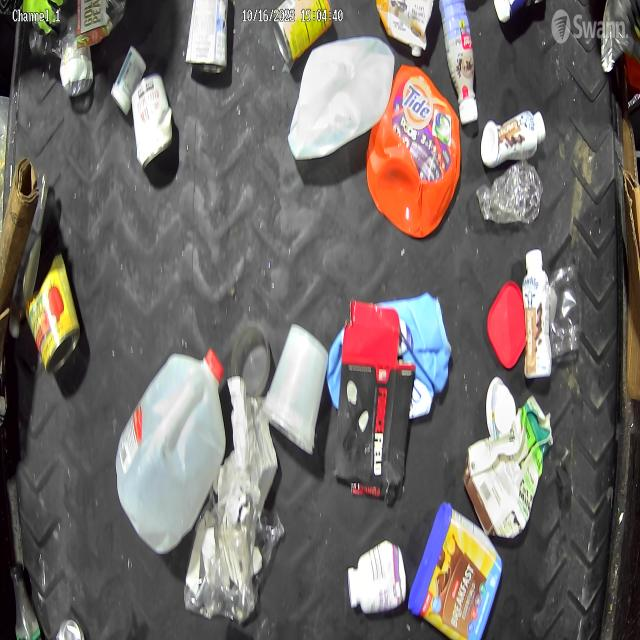can: (26, 251, 82, 373), (130, 72, 173, 170), (272, 0, 334, 66), (184, 0, 229, 75), (52, 613, 85, 640)
milk_jug: (114, 348, 227, 553), (287, 34, 395, 161), (374, 0, 434, 59)
non_white_jug: (364, 64, 462, 240), (327, 290, 453, 420), (461, 394, 554, 543), (408, 500, 504, 640)
plastic_bottle: (477, 161, 545, 227), (10, 561, 43, 640)
